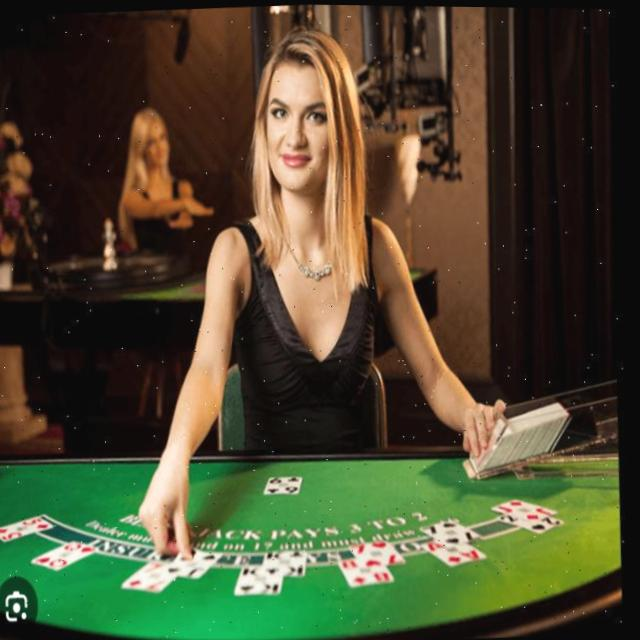Card-2: (500, 513, 568, 533)
Card-5: (0, 514, 57, 542)
Card-6: (266, 475, 306, 492)
Card-7: (124, 558, 180, 592), (422, 517, 485, 547), (353, 539, 409, 567)
Card-8: (339, 557, 397, 586)
Card-A: (424, 539, 491, 567)
Card-J: (494, 496, 560, 522), (168, 548, 226, 577)
Card-K: (239, 563, 287, 594), (267, 550, 310, 575)
Card-Q: (35, 539, 103, 569)
